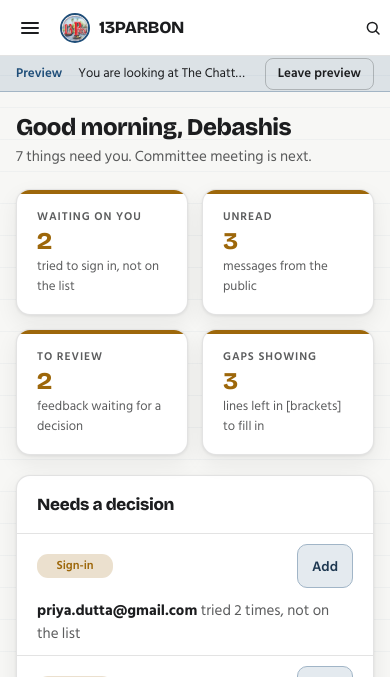
the portal’s menu on a phone › shuts when one of its links is followed
This screenshot has width=390, height=677.
Click the 1st button named "Open menu" at (30, 28), box [8, 6, 52, 50]
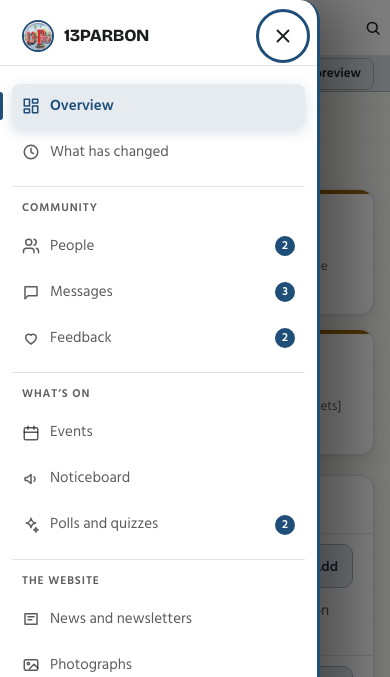
Click the link "People 2" at (72, 246), box [22, 233, 295, 258]
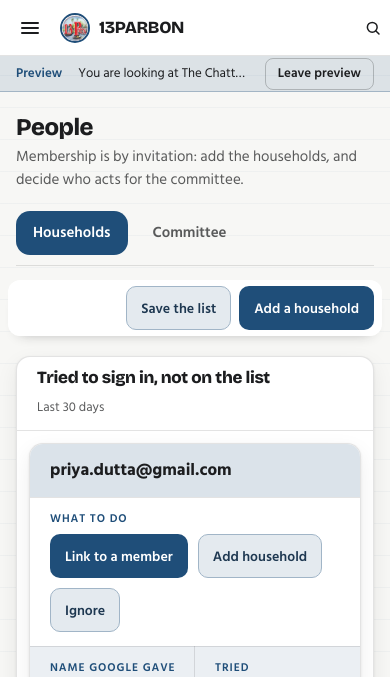
Result: the 1st button named "Open menu" is collapsed at [8, 6, 52, 50]
